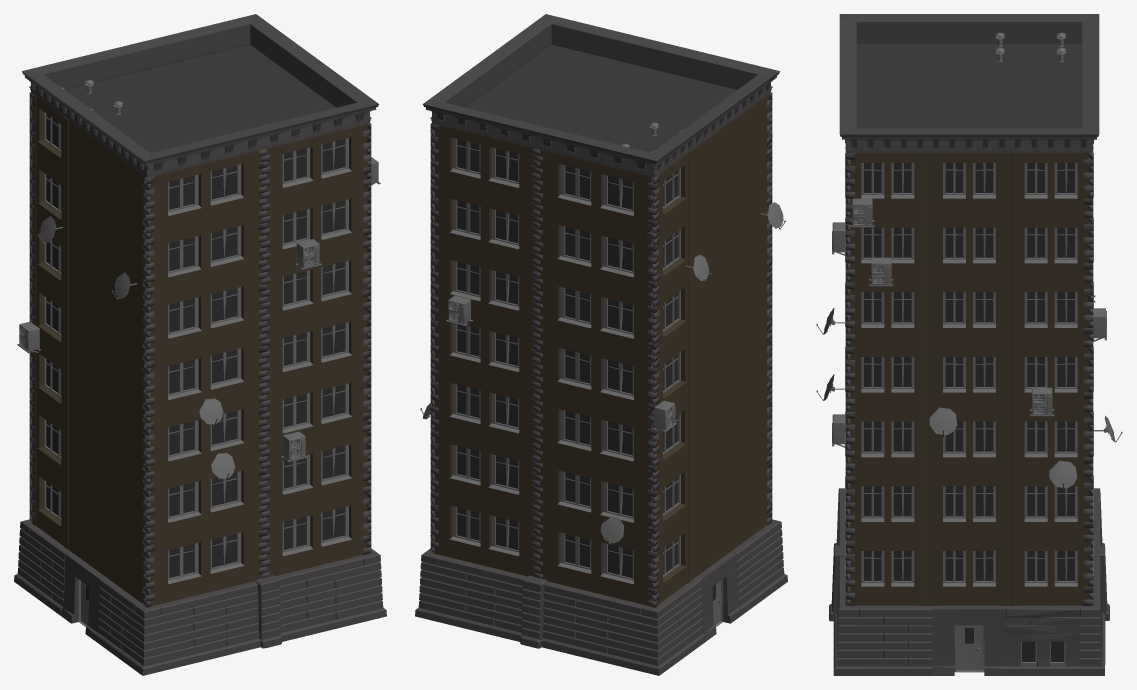
3 views of the same model, side by side, from view 1: azimuth 30°, elevation 25°; view 2: azimuth 150°, elevation 25°; view 3: azimuth 270°, elevation 25° (orthographic). The views are drawn at different scales.
Visible parts, largest first — view 1: Plane.010, middle_floor_wall_02.440, middle_floor_wall_02.439, middle_floor_wall_02.438, middle_floor_wall_02.434, ground_floor_wall_02.099, middle_floor_wall_02.437, middle_floor_wall_02.435, middle_floor_wall_02.436, middle_floor_wall_02.419, middle_floor_wall_02.416, middle_floor_wall_02.413 (+53 smaller); view 2: Plane.010, middle_floor_wall_02.433, middle_floor_wall_02.431, middle_floor_wall_02.429, middle_floor_wall_02.430, middle_floor_wall_02.432, ground_floor_wall_02.098, middle_floor_wall_02.427, middle_floor_wall_02.428, middle_floor_wall_02.426, middle_floor_wall_02.422, middle_floor_wall_02.421 (+52 smaller); view 3: Plane.010, middle_floor_wall_02.408, middle_floor_wall_02.396, middle_floor_wall_02.405, middle_floor_wall_02.393, middle_floor_wall_02.411, middle_floor_wall_02.402, ground_floor_wall_02.095, ground_floor_wall_03.032, ground_floor_wall_01.034, middle_floor_wall_02.409, middle_floor_wall_02.398 (+48 smaller).
Boxes of the visible parts, x1=… form: Plane.010: x1=65, y1=44, x2=335, y2=152; middle_floor_wall_02.440: x1=147, y1=149, x2=263, y2=238; middle_floor_wall_02.439: x1=150, y1=212, x2=261, y2=299; middle_floor_wall_02.438: x1=150, y1=273, x2=261, y2=360; middle_floor_wall_02.434: x1=150, y1=519, x2=261, y2=606; ground_floor_wall_02.099: x1=157, y1=581, x2=260, y2=670; middle_floor_wall_02.437: x1=150, y1=335, x2=261, y2=422; middle_floor_wall_02.435: x1=150, y1=457, x2=261, y2=545; middle_floor_wall_02.436: x1=150, y1=396, x2=261, y2=483; middle_floor_wall_02.419: x1=264, y1=124, x2=367, y2=209; middle_floor_wall_02.416: x1=267, y1=309, x2=367, y2=393; middle_floor_wall_02.413: x1=267, y1=493, x2=367, y2=576; Plane.010: x1=466, y1=44, x2=736, y2=152; middle_floor_wall_02.433: x1=538, y1=149, x2=651, y2=237; middle_floor_wall_02.431: x1=540, y1=273, x2=651, y2=359; middle_floor_wall_02.429: x1=540, y1=396, x2=651, y2=482; middle_floor_wall_02.430: x1=540, y1=334, x2=651, y2=421; middle_floor_wall_02.432: x1=540, y1=211, x2=651, y2=298; ground_floor_wall_02.098: x1=541, y1=581, x2=644, y2=670; middle_floor_wall_02.427: x1=540, y1=518, x2=651, y2=605; middle_floor_wall_02.428: x1=540, y1=457, x2=651, y2=544; middle_floor_wall_02.426: x1=434, y1=124, x2=537, y2=209; middle_floor_wall_02.422: x1=434, y1=371, x2=534, y2=455; middle_floor_wall_02.421: x1=434, y1=432, x2=534, y2=516; Plane.010: x1=856, y1=43, x2=1082, y2=128; middle_floor_wall_02.408: x1=928, y1=217, x2=1010, y2=282; middle_floor_wall_02.396: x1=928, y1=476, x2=1010, y2=541; middle_floor_wall_02.405: x1=928, y1=282, x2=1010, y2=347; middle_floor_wall_02.393: x1=928, y1=541, x2=1010, y2=605; middle_floor_wall_02.411: x1=928, y1=153, x2=1010, y2=217; middle_floor_wall_02.402: x1=928, y1=347, x2=1010, y2=411; ground_floor_wall_02.095: x1=859, y1=605, x2=932, y2=675; ground_floor_wall_03.032: x1=1006, y1=605, x2=1079, y2=675; ground_floor_wall_01.034: x1=932, y1=605, x2=1006, y2=675; middle_floor_wall_02.409: x1=1010, y1=217, x2=1088, y2=282; middle_floor_wall_02.398: x1=850, y1=411, x2=928, y2=476.
Bounding box in the file's own units: 1408 × 2524 × 1299.
